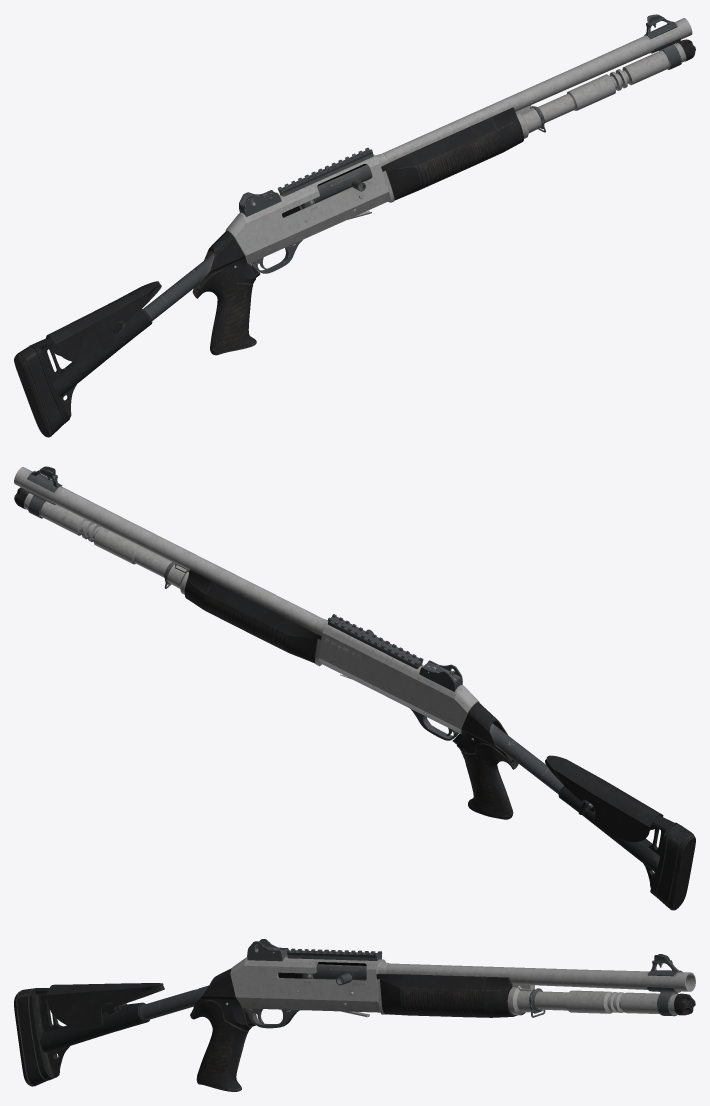
3 views of the same model, one above another, from view 1: azimuth 30°, elevation 25°; view 2: azimuth 150°, elevation 25°; view 3: azimuth 330°, elevation 25° (orthographic). The views are drawn at different scales.
Visible parts, largest first — view 1: Shotgun_M4_Silver_Texture_0__misc, Shotgun_M4_Silver_Texture_0; view 2: Shotgun_M4_Silver_Texture_0__misc, Shotgun_M4_Silver_Texture_0; view 3: Shotgun_M4_Silver_Texture_0__misc, Shotgun_M4_Silver_Texture_0.
Part boxes in pixels (x1,y1,x2,y2): Shotgun_M4_Silver_Texture_0__misc: [14, 14, 695, 436]; Shotgun_M4_Silver_Texture_0: [14, 18, 695, 437]; Shotgun_M4_Silver_Texture_0__misc: [14, 466, 695, 910]; Shotgun_M4_Silver_Texture_0: [14, 467, 695, 910]; Shotgun_M4_Silver_Texture_0__misc: [16, 939, 695, 1091]; Shotgun_M4_Silver_Texture_0: [14, 939, 695, 1091].
Bounding box in the file's own units: 3.61 × 1.43 × 0.2391.
1 material, 1 textured.
